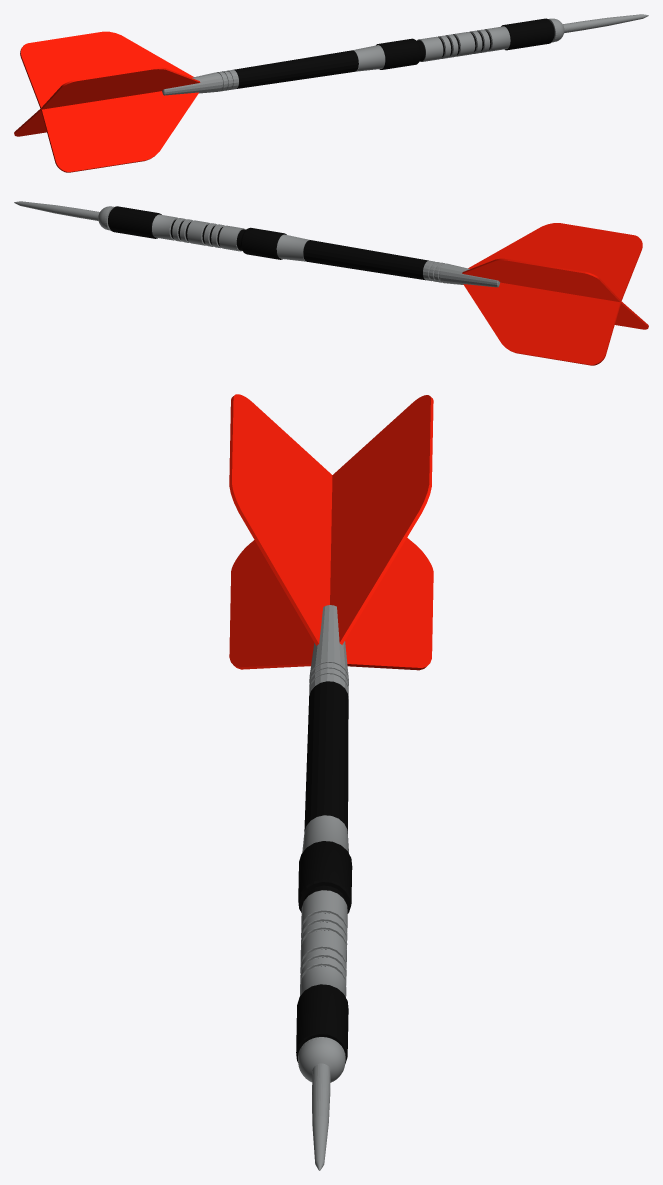
The model's file is Dart.fbx.
3 views of the same model, one above another, from view 1: azimuth 30°, elevation 25°; view 2: azimuth 150°, elevation 25°; view 3: azimuth 270°, elevation 25° (orthographic). The views are drawn at different scales.
Parts seen in each view (by area): view 1: Plane04, Cylinder03, Sphere03; view 2: Plane04, Cylinder03, Sphere03; view 3: Plane04, Cylinder03, Sphere03.
Part boxes in pixels (box(x1,y1,x2,y2)): Plane04: box(14, 31, 200, 172); Cylinder03: box(162, 18, 554, 95); Sphere03: box(548, 14, 648, 42); Plane04: box(462, 223, 648, 365); Cylinder03: box(108, 206, 500, 287); Sphere03: box(14, 201, 114, 230); Plane04: box(229, 394, 433, 670); Cylinder03: box(296, 605, 352, 1063); Sphere03: box(298, 1037, 345, 1170).
Bounding box in the file's own units: 333 × 51.9 × 48.21.
